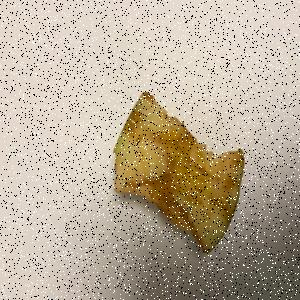Trash: (114, 92, 245, 254)
